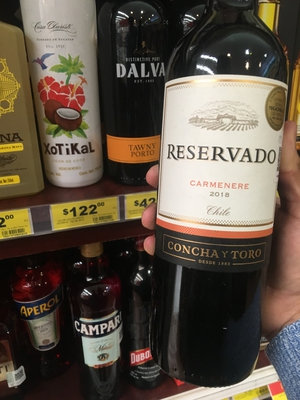reservado carmenere: (156, 5, 298, 377)
